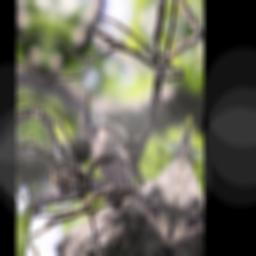Cuckoo: (64, 86, 180, 223)
